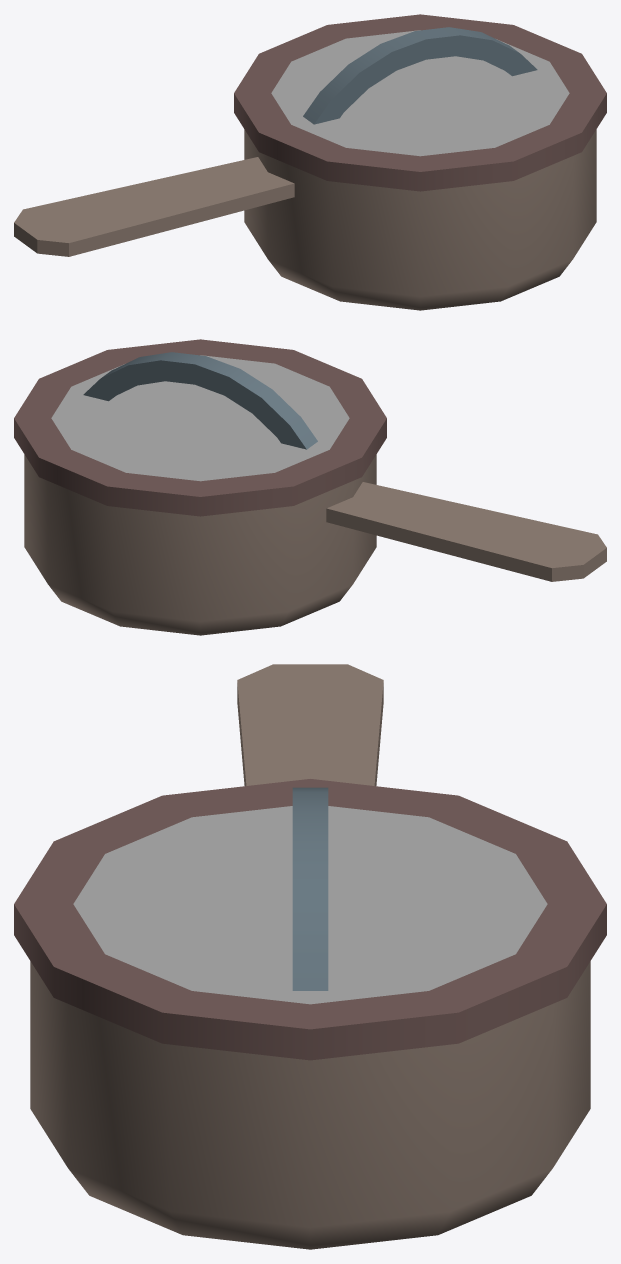
File: _aucepan.fbx
3 views of the same model, one above another, from view 1: azimuth 30°, elevation 25°; view 2: azimuth 150°, elevation 25°; view 3: azimuth 270°, elevation 25° (orthographic). The views are drawn at different scales.
Parts seen in each view (by area): view 1: Saucepan_Body, Saucepan_Lid; view 2: Saucepan_Body, Saucepan_Lid; view 3: Saucepan_Lid, Saucepan_Body.
Boxes of the visible parts, x1,y1,x2,y2 form: Saucepan_Body: (14,129,596,310); Saucepan_Lid: (234,14,606,191); Saucepan_Body: (24,454,606,635); Saucepan_Lid: (14,339,386,516); Saucepan_Lid: (14,779,606,1060); Saucepan_Body: (30,664,590,1249).
Size of the model in its own units: 0.0219 by 0.00812 by 0.0127.
